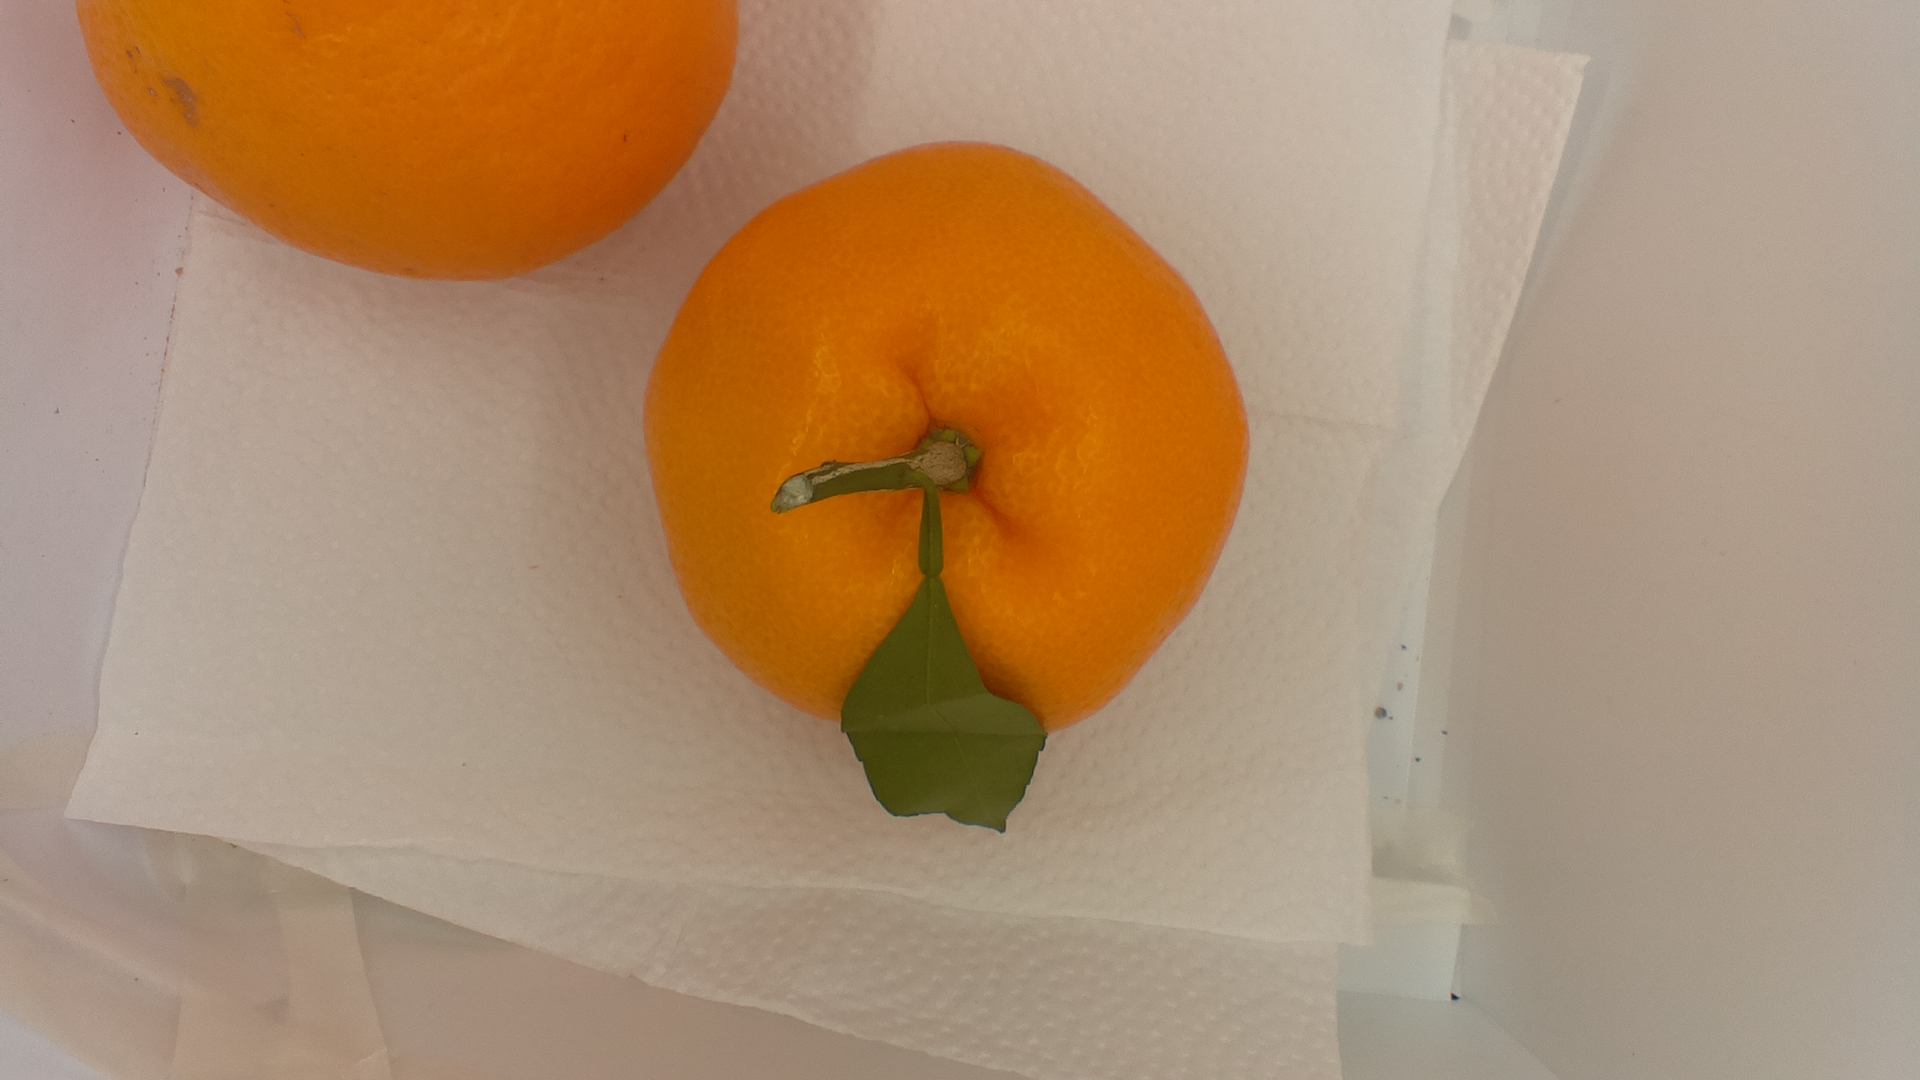fruit: (638, 135, 1266, 841), (70, 1, 746, 287)
